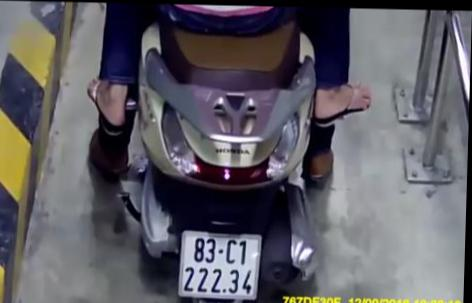LP: (177, 227, 263, 301)
